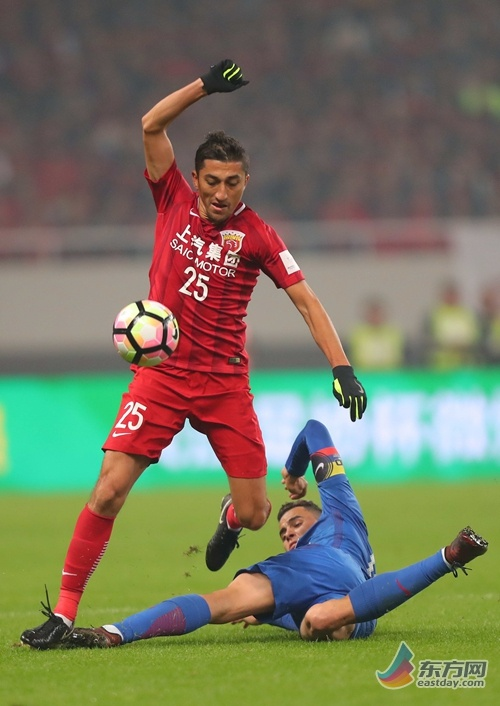falling: (61, 415, 484, 643)
